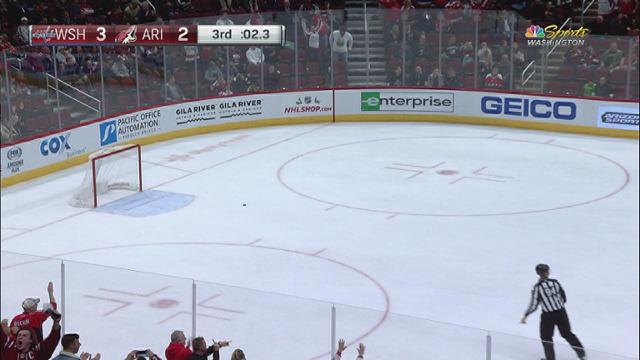geico: (479, 90, 579, 124)
